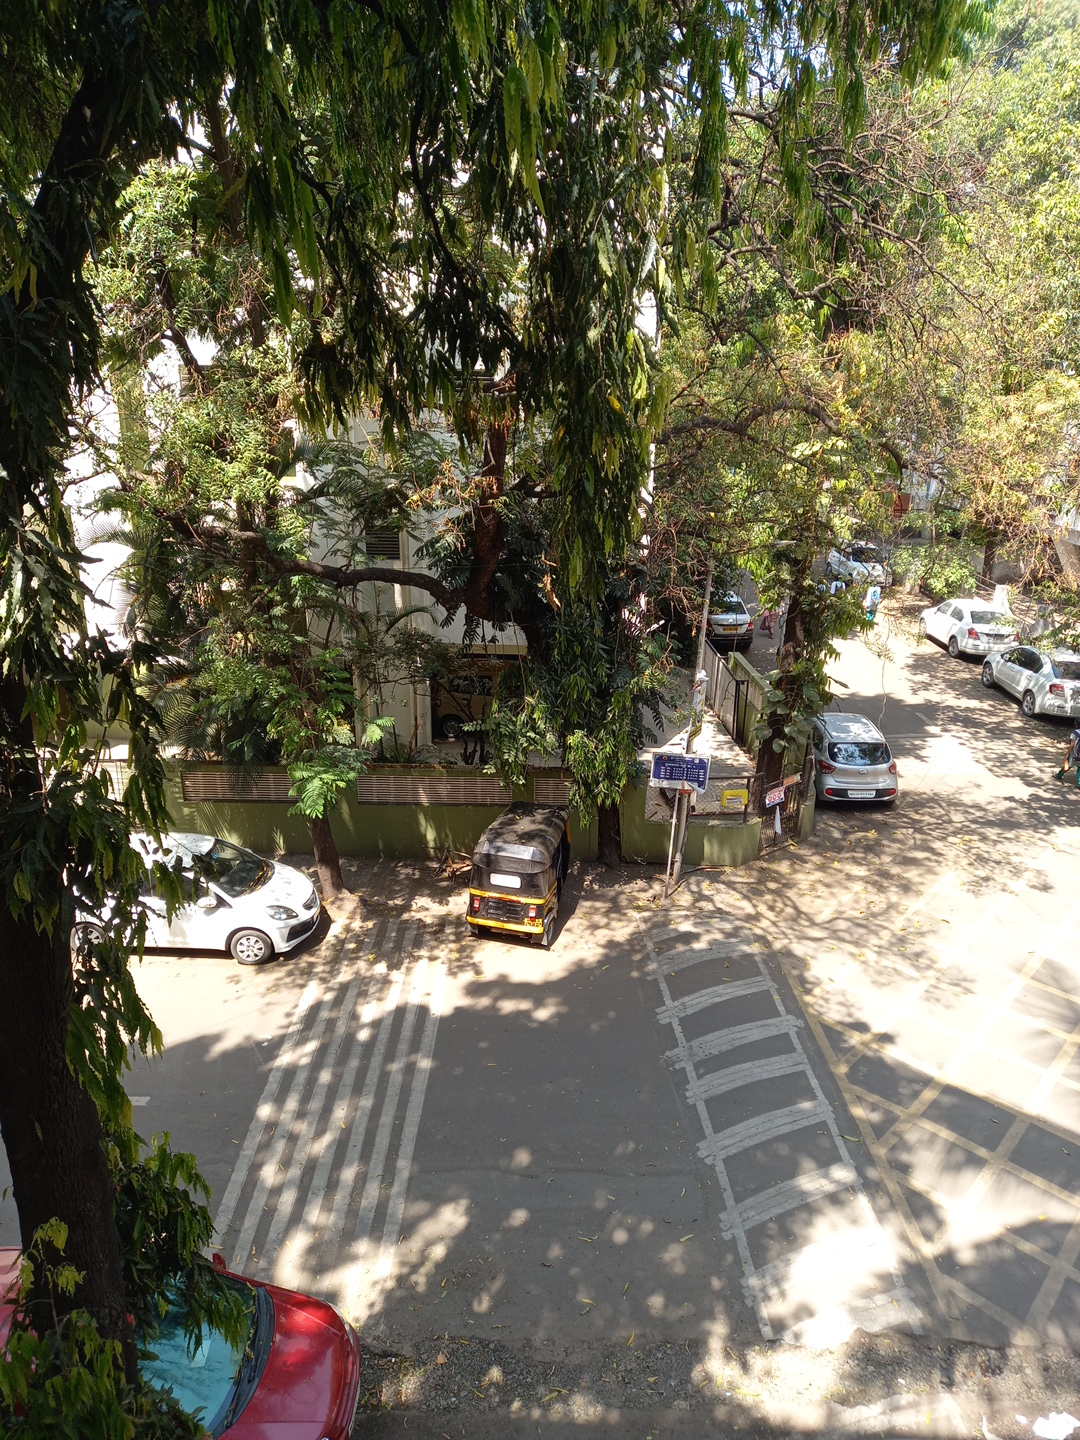auto: (464, 807, 573, 952)
car: (0, 1251, 361, 1440), (61, 830, 323, 962), (805, 713, 896, 807), (982, 644, 1080, 718), (919, 596, 1020, 657), (826, 539, 892, 588), (704, 590, 752, 647)
